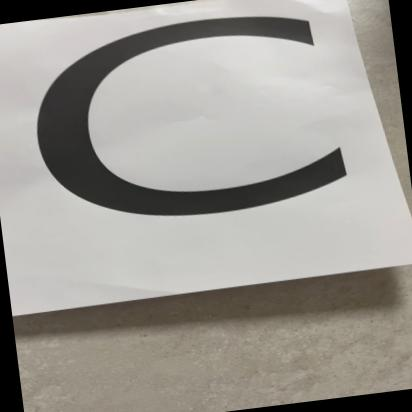seat: (0, 0, 412, 304)
